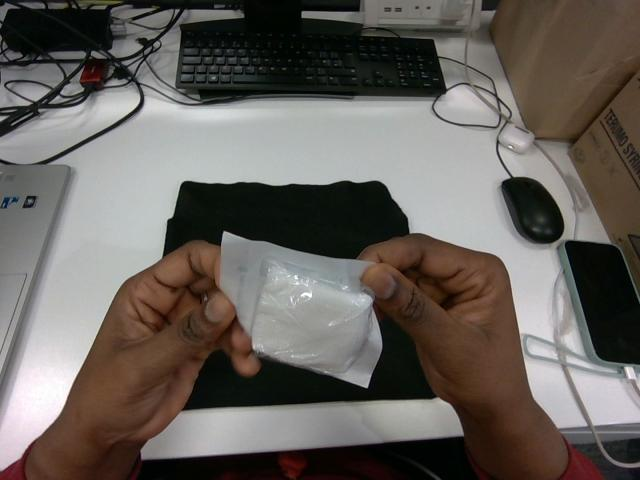gauze: (220, 232, 381, 386)
